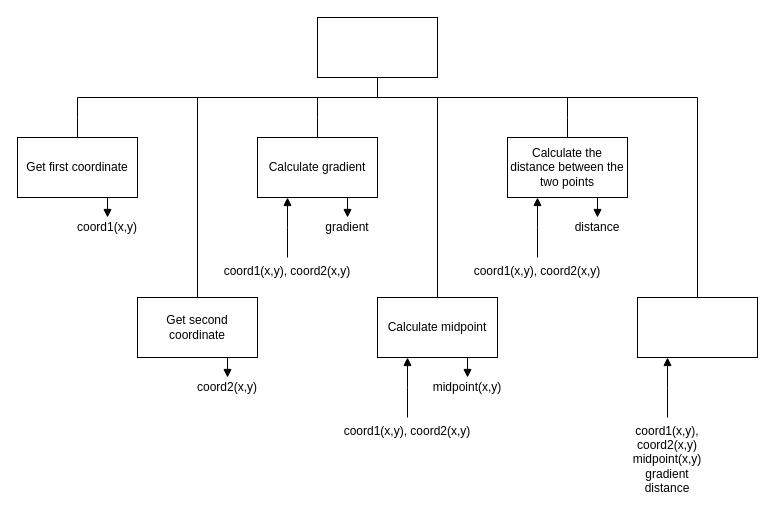
This 775x515 diagram has some shape labels left out. The shapes that lost their labels are listed below. From the top down, each one's centre as x and y in pixels, then its label:
At point (377, 47): "Straight line calculations".
At point (697, 327): "Display the results".
